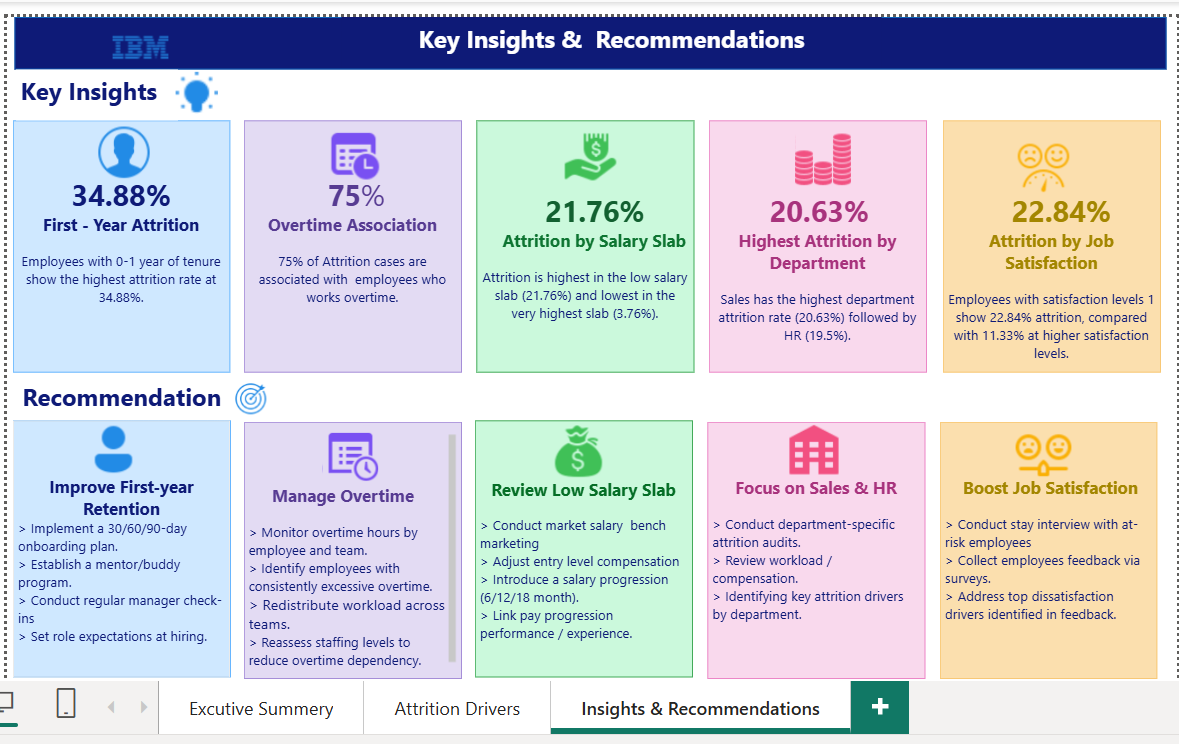

The page's visual inventory and layout, read from the dashboard file:
{"tool":"powerbi","page":{"name":"Insights & Recommendations","canvas":[1300,900],"ordinal":2},"visuals":[{"type":"shape","title":"Key Insights  &   Recommendations","box":[8.3,0,1280,58.3],"z":0},{"type":"textbox","box":[6.7,115,241,280],"z":1000},{"type":"textbox","box":[263.3,115,241.7,280],"z":2000},{"type":"textbox","box":[521.7,115,241.7,280],"z":3000},{"type":"textbox","box":[780,115,241.7,280],"z":4000},{"type":"textbox","box":[1040,115,241.7,280],"z":5000},{"type":"textbox","box":[6.7,448.3,241.7,285],"z":6000},{"type":"textbox","box":[263.3,450,241.7,285],"z":7000},{"type":"textbox","box":[520,448.3,241.7,285],"z":8000},{"type":"textbox","box":[778.3,450,241.7,285],"z":9000},{"type":"textbox","box":[1036.7,450,241,285],"z":10000},{"type":"textbox","box":[9.7,58.3,180,56.7],"z":11000},{"type":"actionButton","box":[95,110,70,80],"z":12000},{"type":"actionButton","box":[350,111.7,70,80],"z":13000},{"type":"actionButton","box":[871.7,116.7,70,80],"z":14000},{"type":"actionButton","box":[1116.7,126.7,70,80],"z":15000},{"type":"actionButton","box":[83.3,440,70,80],"z":16000},{"type":"actionButton","box":[346.7,445,70,80],"z":17000},{"type":"actionButton","box":[613.3,115,70,80],"z":18000},{"type":"actionButton","box":[600,443.3,70,80],"z":19000},{"type":"actionButton","box":[861.7,441.7,70,80],"z":20000},{"type":"actionButton","box":[1116.7,446.7,70,80],"z":21000},{"type":"textbox","box":[6.7,398.3,241.7,45],"z":22000},{"type":"actionButton","box":[183.3,56.7,130,55],"z":23000},{"type":"actionButton","box":[248.3,401.7,130,45],"z":24000},{"type":"textbox","box":[371.7,0,600,56.7],"z":25000},{"type":"actionButton","box":[113.3,0,100,70],"z":26000}]}

Visuals, with their boxes on the page's 1300x900 design canvas (x1, y1, x2, y2). These are canvas units, not pixel positions in the 1179x744 screenshot, which may show the page scaled, cropped or inside an application window:
"Key Insights  &   Recommendations" shape: select_region(8, 0, 1288, 58)
textbox: select_region(7, 115, 248, 395)
textbox: select_region(263, 115, 505, 395)
textbox: select_region(522, 115, 763, 395)
textbox: select_region(780, 115, 1022, 395)
textbox: select_region(1040, 115, 1282, 395)
textbox: select_region(7, 448, 248, 733)
textbox: select_region(263, 450, 505, 735)
textbox: select_region(520, 448, 762, 733)
textbox: select_region(778, 450, 1020, 735)
textbox: select_region(1037, 450, 1278, 735)
textbox: select_region(10, 58, 190, 115)
actionButton: select_region(95, 110, 165, 190)
actionButton: select_region(350, 112, 420, 192)
actionButton: select_region(872, 117, 942, 197)
actionButton: select_region(1117, 127, 1187, 207)
actionButton: select_region(83, 440, 153, 520)
actionButton: select_region(347, 445, 417, 525)
actionButton: select_region(613, 115, 683, 195)
actionButton: select_region(600, 443, 670, 523)
actionButton: select_region(862, 442, 932, 522)
actionButton: select_region(1117, 447, 1187, 527)
textbox: select_region(7, 398, 248, 443)
actionButton: select_region(183, 57, 313, 112)
actionButton: select_region(248, 402, 378, 447)
textbox: select_region(372, 0, 972, 57)
actionButton: select_region(113, 0, 213, 70)
